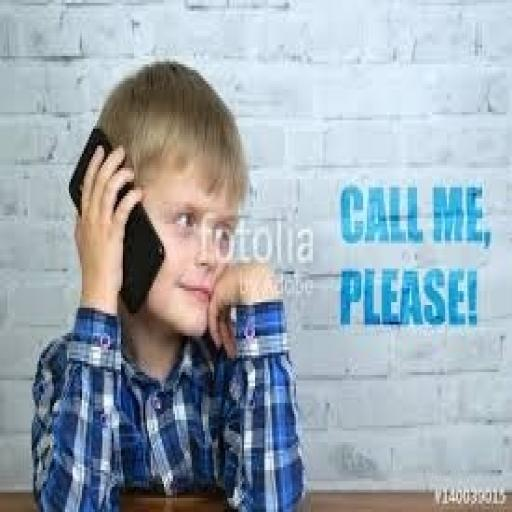calling: (28, 56, 307, 509)
